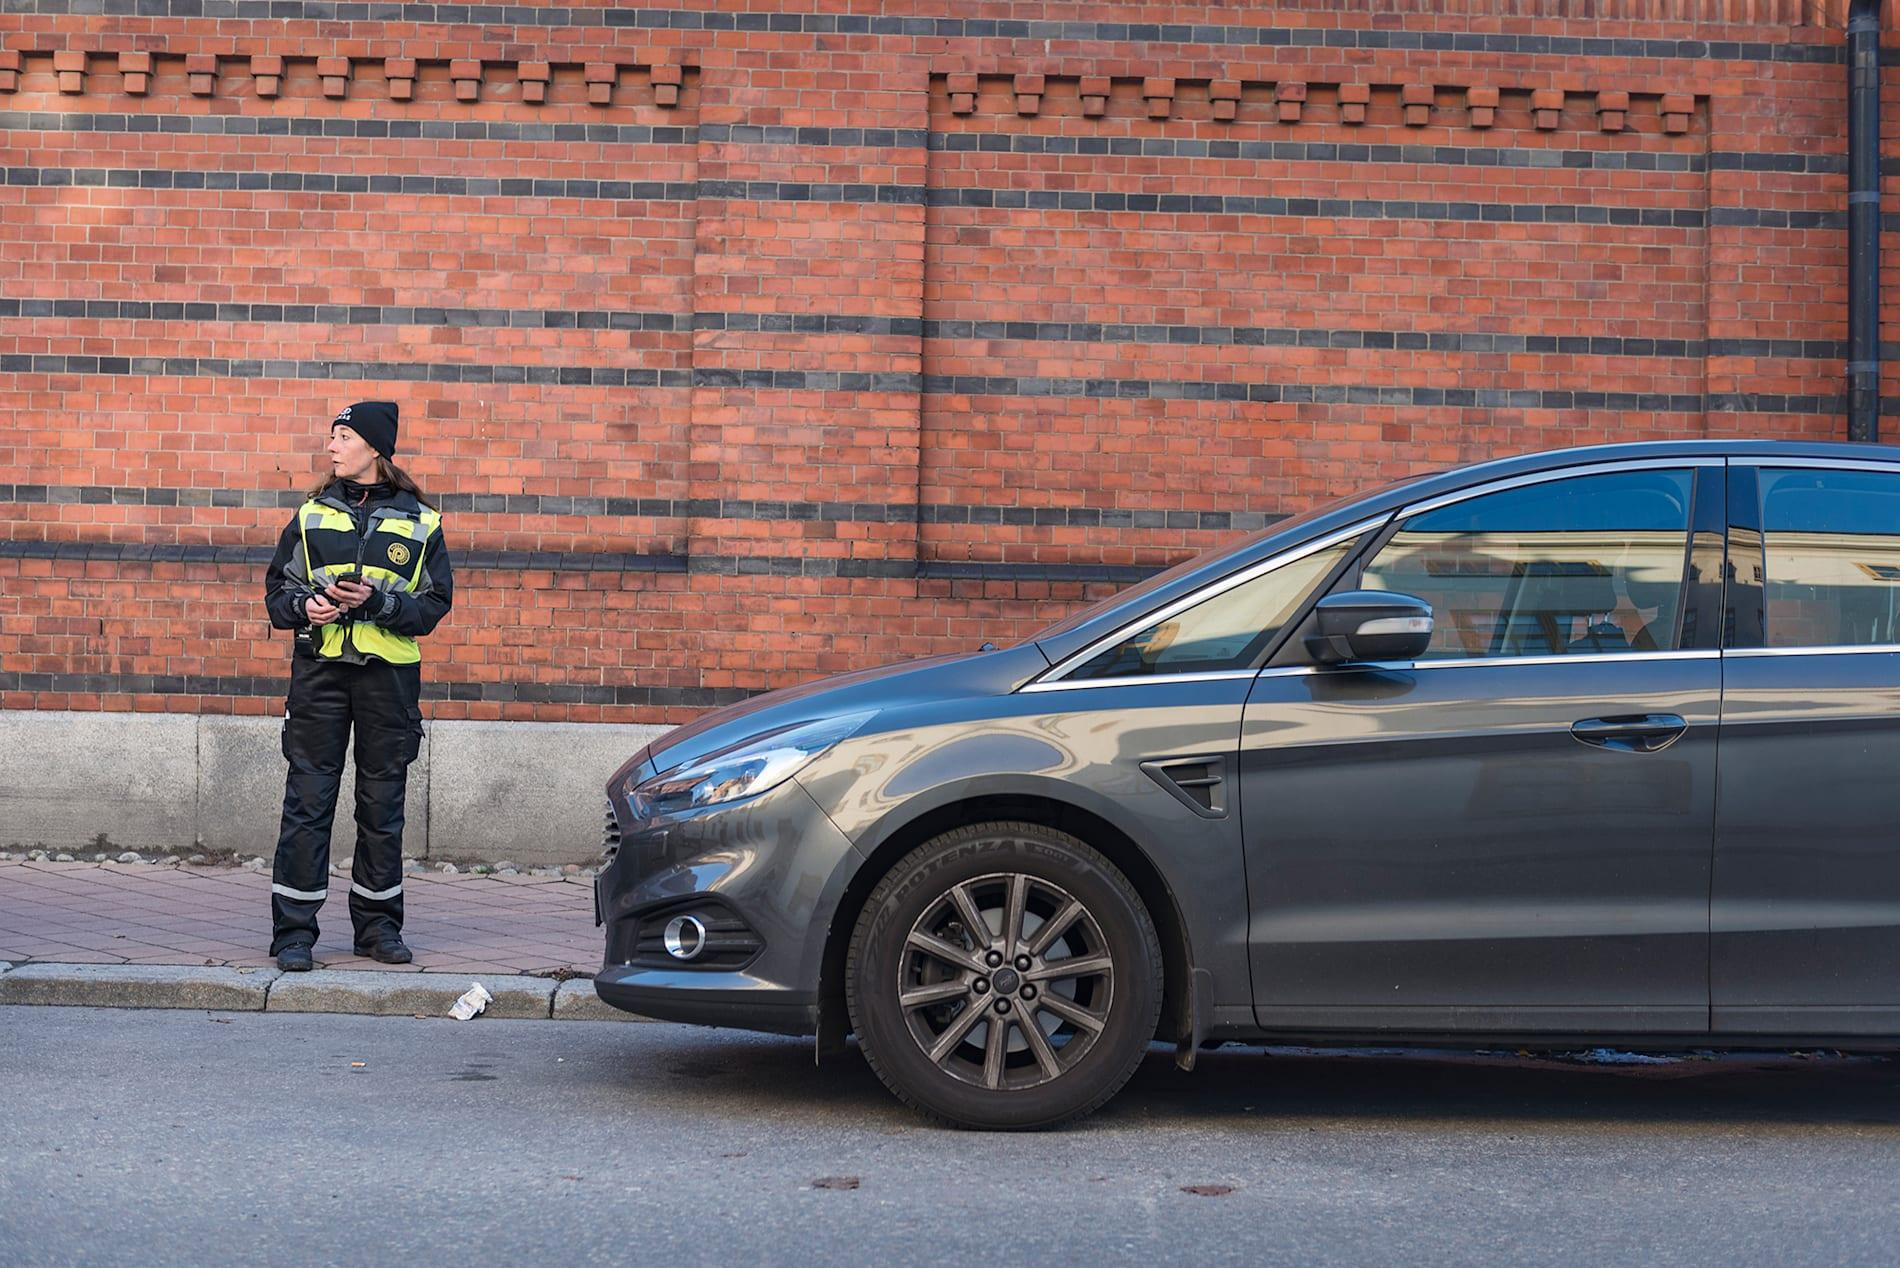parking-attendant: (265, 400, 451, 969)
